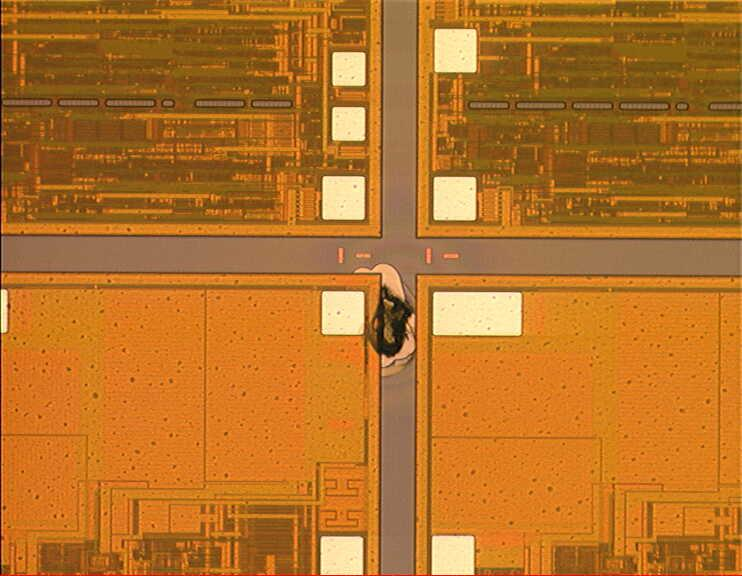PIQ PARTICLE: (350, 261, 430, 381)
